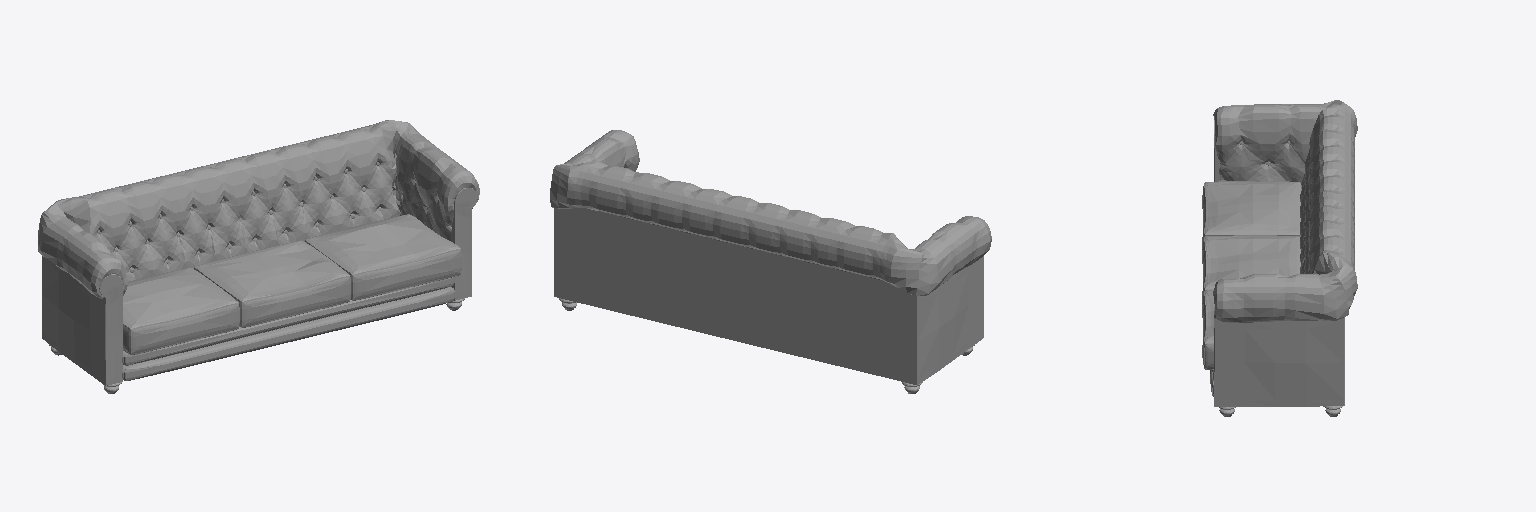
The model's file is leathercouch.obj.
3 views of the same model, side by side, from view 1: azimuth 30°, elevation 25°; view 2: azimuth 150°, elevation 25°; view 3: azimuth 270°, elevation 25° (orthographic).
Parts seen in each view (by area): view 1: leathercouch.000_Cube.107; view 2: leathercouch.000_Cube.107; view 3: leathercouch.000_Cube.107.
Boxes of the visible parts, box(x1,y1,x2,y2) form: leathercouch.000_Cube.107: box(38, 120, 479, 385); leathercouch.000_Cube.107: box(550, 130, 991, 384); leathercouch.000_Cube.107: box(1202, 100, 1357, 406).
Size of the model in its own units: 3.3 by 1.23 by 1.14.